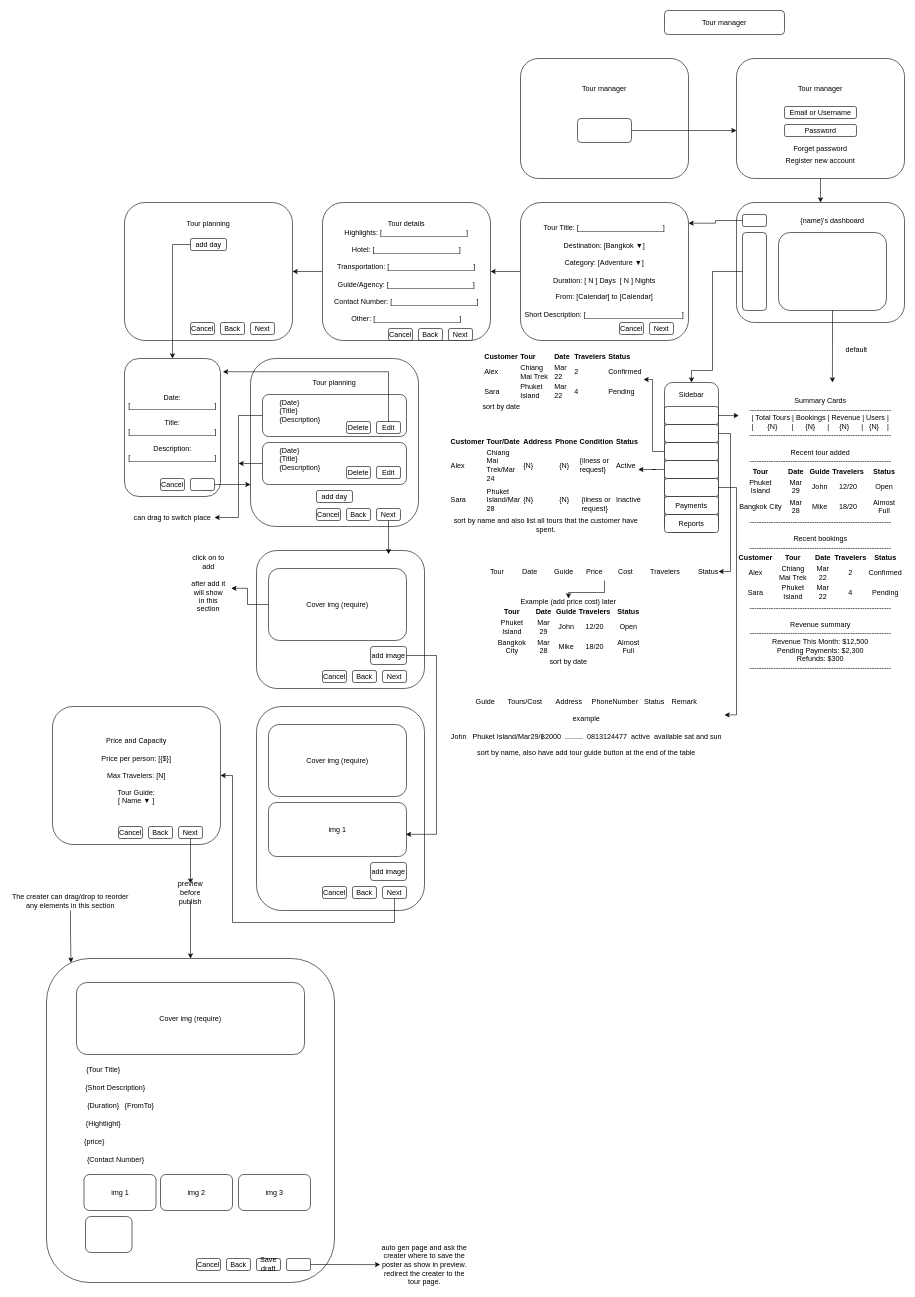
This 915x1297 diagram has some shape labels left out. The centre of each missing label's shape, as x and y in pixels:
"Bookings" goes at pixel 691 451.
"Confirm" goes at pixel 202 484.
"Create" goes at pixel 754 220.
"Customers" goes at pixel 691 469.
"Dashboard" goes at pixel 691 415.
"Guides" goes at pixel 691 487.
"Login" goes at pixel 604 130.
"menu" goes at pixel 754 271.
"Publish" goes at pixel 298 1264.
"QR" goes at pixel 108 1234.
"Tours" goes at pixel 691 433.
"user's tour summarise" goes at pixel 832 271.
